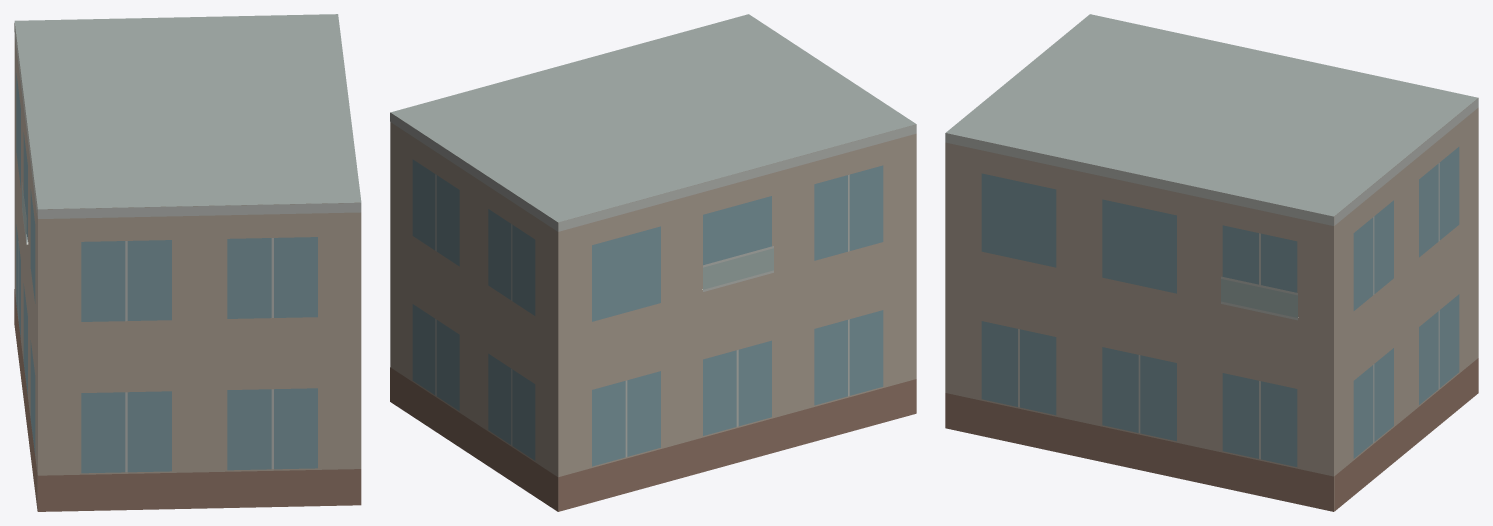
Rendered from survey-upis-32494204.glb.
3 views of the same model, side by side, from view 1: azimuth 30°, elevation 25°; view 2: azimuth 150°, elevation 25°; view 3: azimuth 270°, elevation 25° (orthographic). The views are drawn at different scales.
Visible parts, largest first — view 1: survey-upis-32494204.tmp; view 2: survey-upis-32494204.tmp; view 3: survey-upis-32494204.tmp.
Boxes of the visible parts, x1=… form: survey-upis-32494204.tmp: x1=14, y1=14, x2=361, y2=511; survey-upis-32494204.tmp: x1=390, y1=14, x2=916, y2=511; survey-upis-32494204.tmp: x1=945, y1=14, x2=1478, y2=511.
Bounding box in the file's own units: 11.04 × 7.5 × 12.28.
